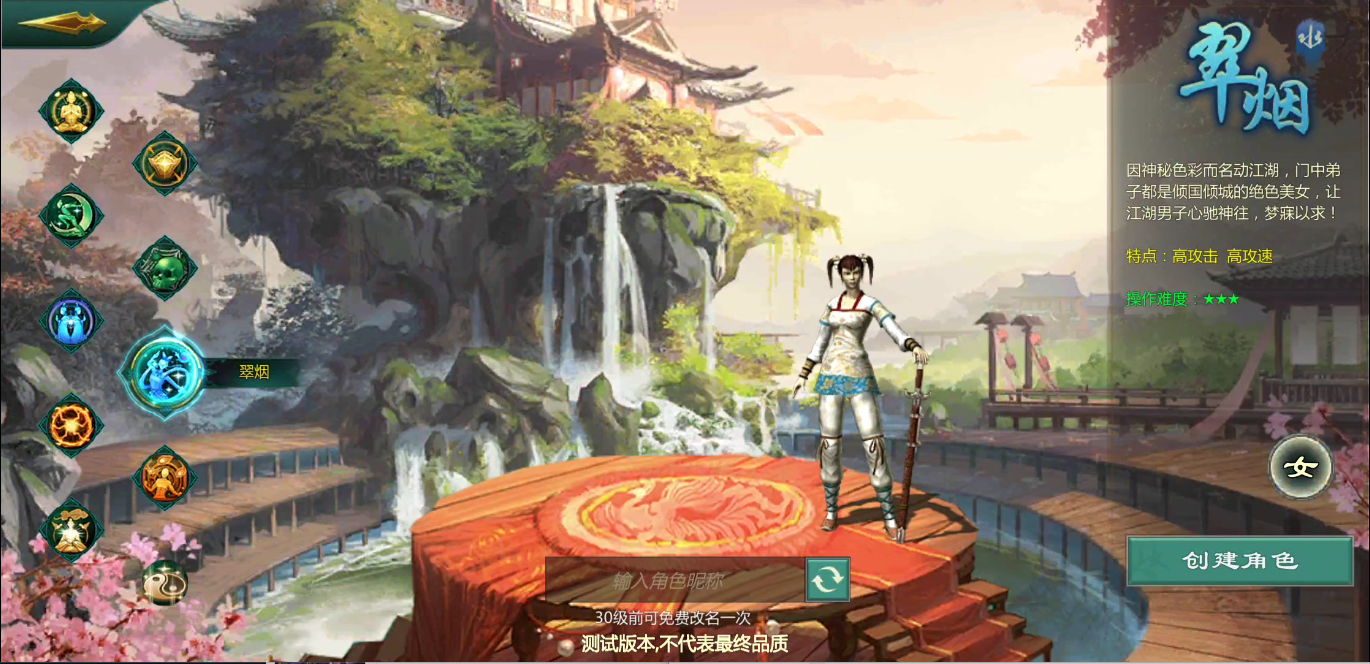emei: (34, 287, 105, 357)
gaibang: (32, 389, 110, 465)
kunlun: (135, 555, 194, 614)
name: (805, 555, 850, 602)
shaolin: (37, 75, 109, 150)
tangmen: (35, 179, 107, 249)
tianren: (129, 442, 200, 514)
tianwang: (125, 127, 202, 202)
wudang: (39, 495, 107, 570)
wudu: (129, 229, 202, 305)
